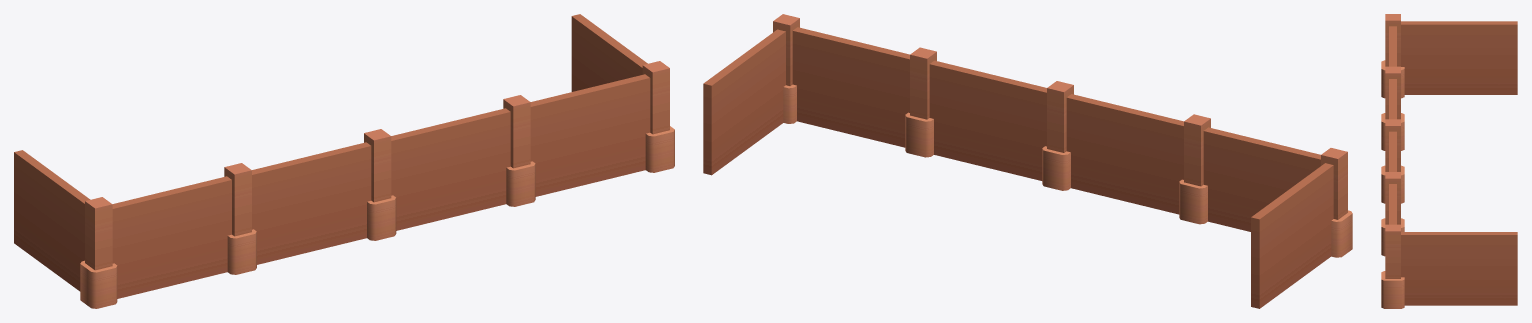
Rendered from fence-1x4.glb.
The picture shows the model from 3 angles, left to right: view 1: azimuth 30°, elevation 25°; view 2: azimuth 150°, elevation 25°; view 3: azimuth 270°, elevation 25°; orthographic projection. The views are drawn at different scales.
Parts seen in each view (by area): view 1: fence-1x4; view 2: fence-1x4; view 3: fence-1x4.
Boxes of the visible parts, left/top/right/bottom form: fence-1x4: left=14, top=14, right=674, bottom=308; fence-1x4: left=703, top=14, right=1352, bottom=308; fence-1x4: left=1381, top=14, right=1517, bottom=308.
Bounding box in the file's own units: 1.68 × 0.2699 × 0.4374.
1 material, 1 textured.
